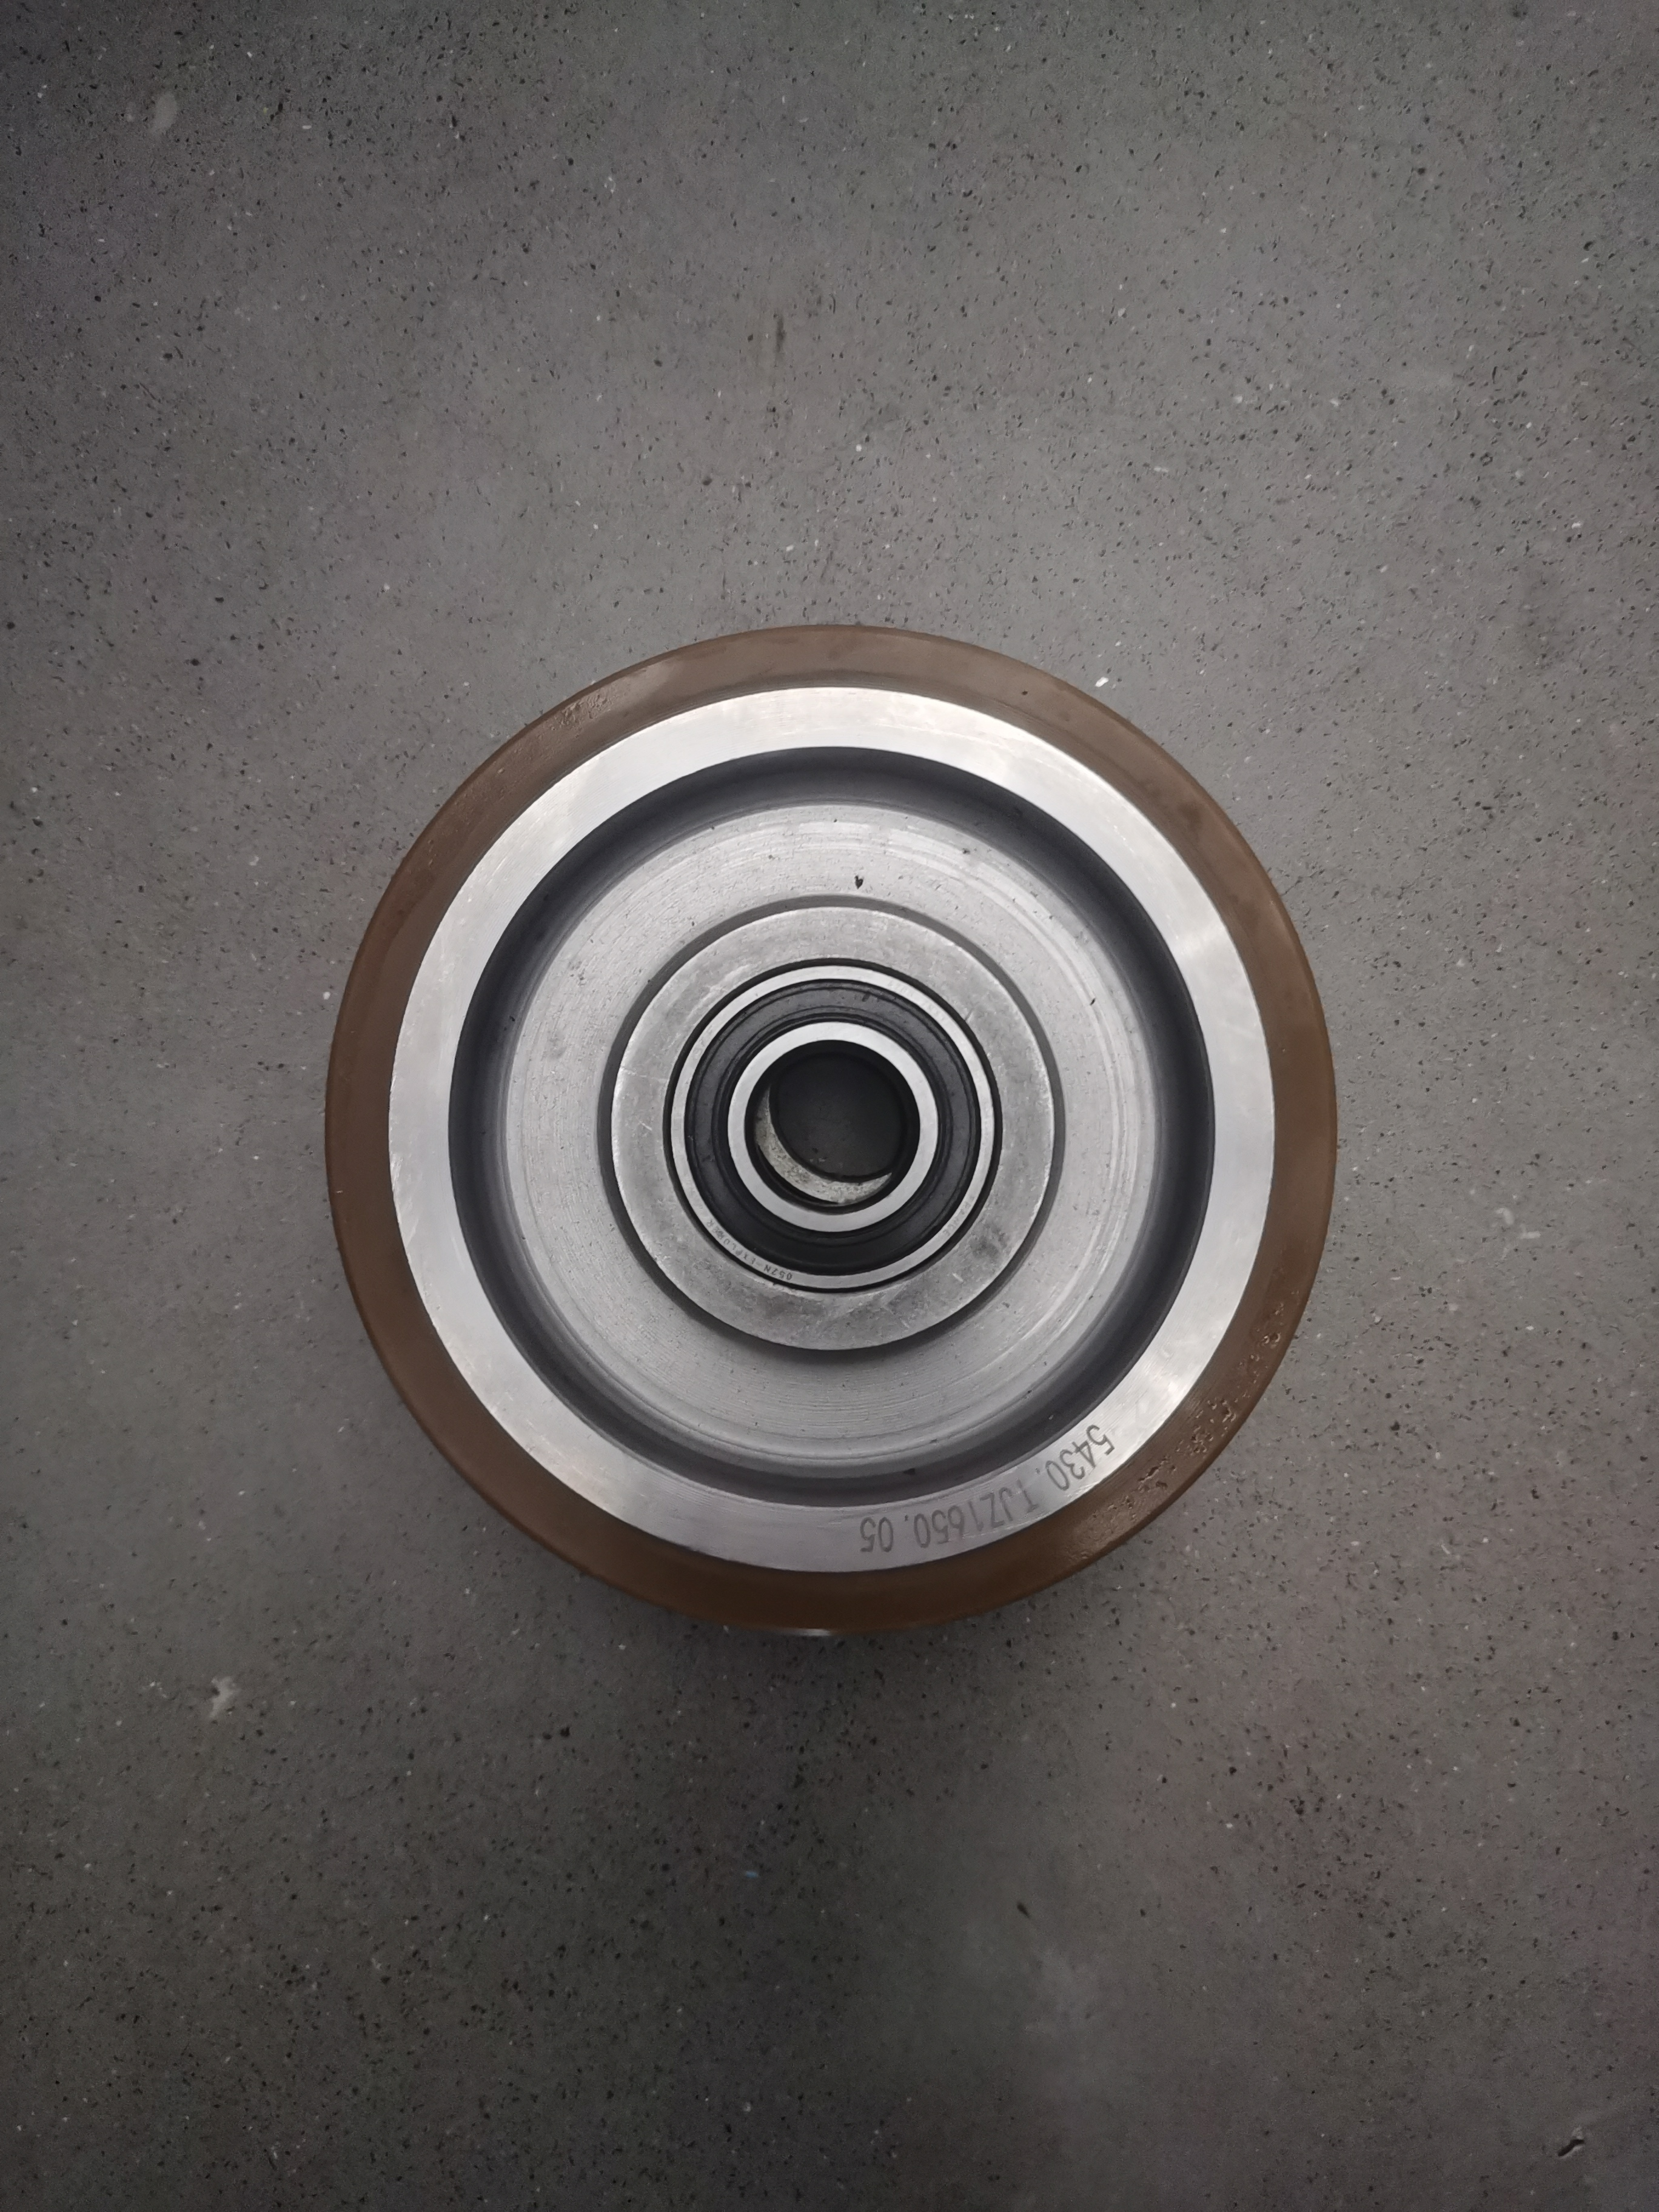good_wheel: (296, 603, 1377, 1644)
